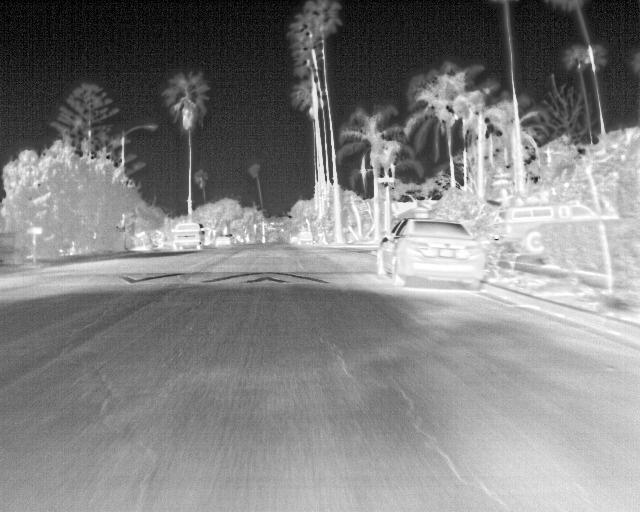car: (376, 213, 484, 290), (500, 202, 545, 256), (173, 223, 204, 252), (548, 201, 592, 219), (213, 234, 231, 248), (299, 230, 313, 243)
